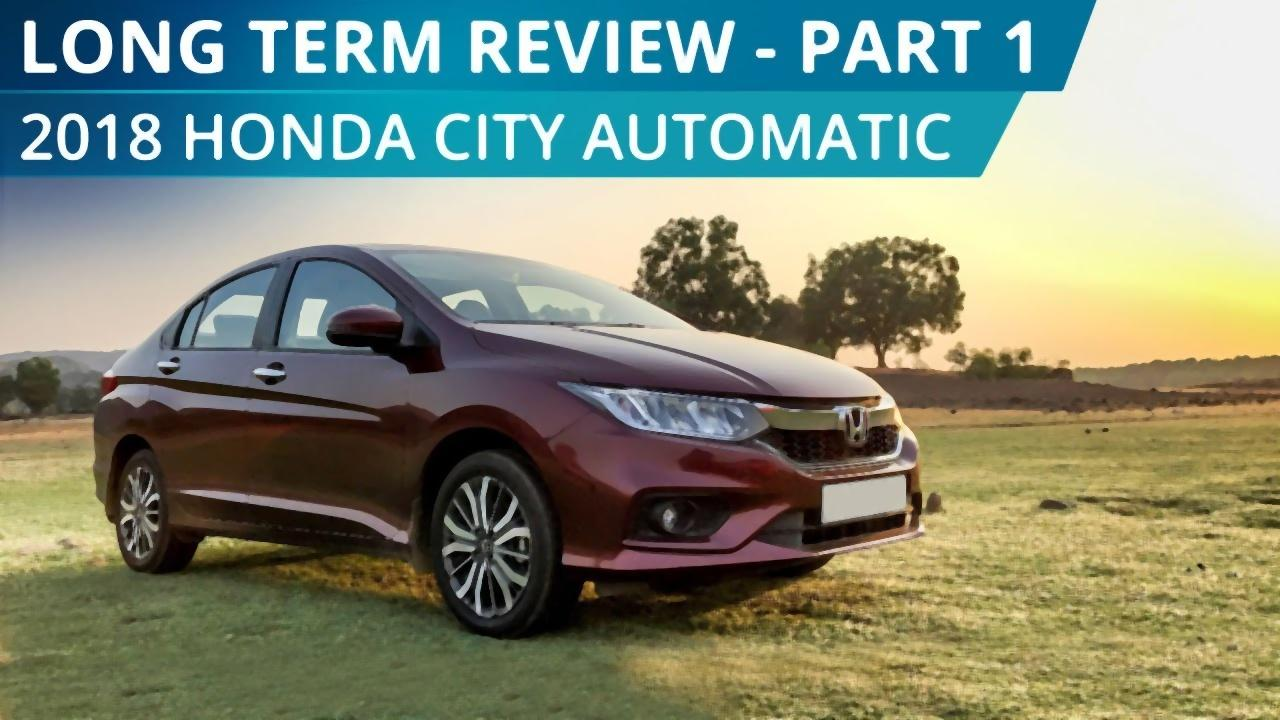Car hood: (460, 318, 892, 402)
Driver-s door - -F-R-: (249, 238, 445, 560)
Fender - -F-R-: (397, 313, 584, 544)
Fender - -R-R-: (98, 315, 177, 474)
Front bumper: (532, 408, 929, 579)
Headlight - -R-: (552, 381, 768, 444)
Passenger-s door - -R-R-: (142, 237, 282, 549)
Rear bumper: (83, 421, 129, 511)
Rear light - -R-: (97, 366, 120, 407)
Side bumper - -R-: (157, 483, 424, 568)
Side mirror - -R-: (329, 299, 442, 378)
